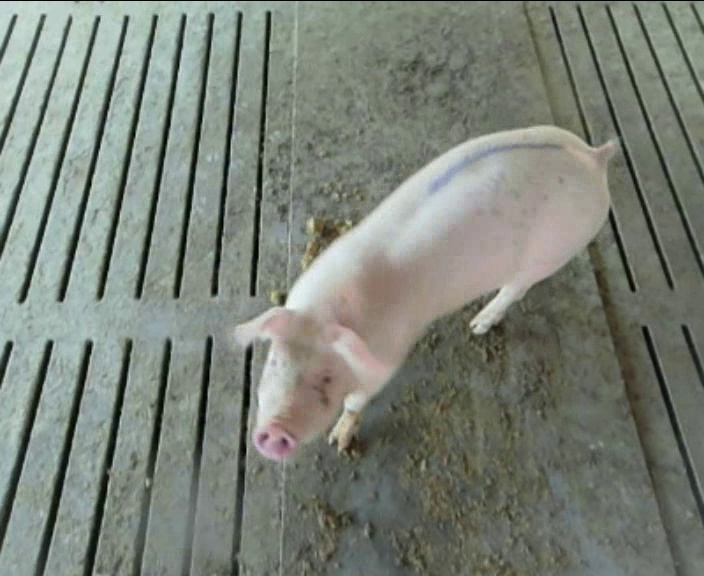pig: (236, 126, 615, 459)
